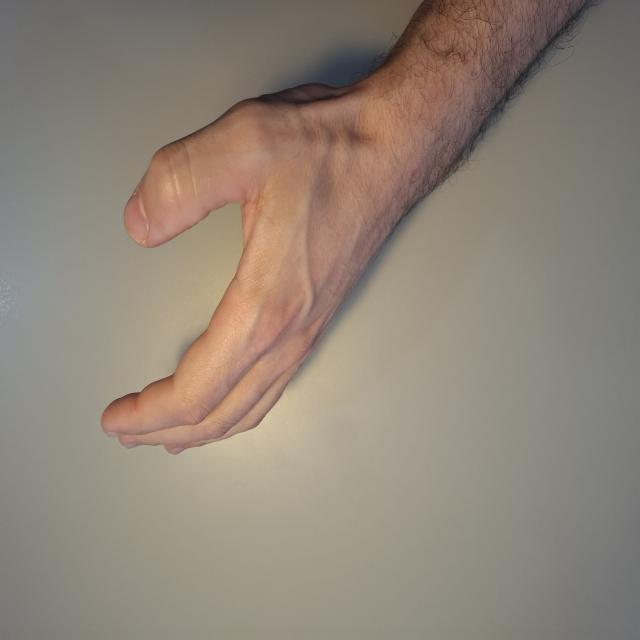glove_off: (97, 67, 400, 457)
